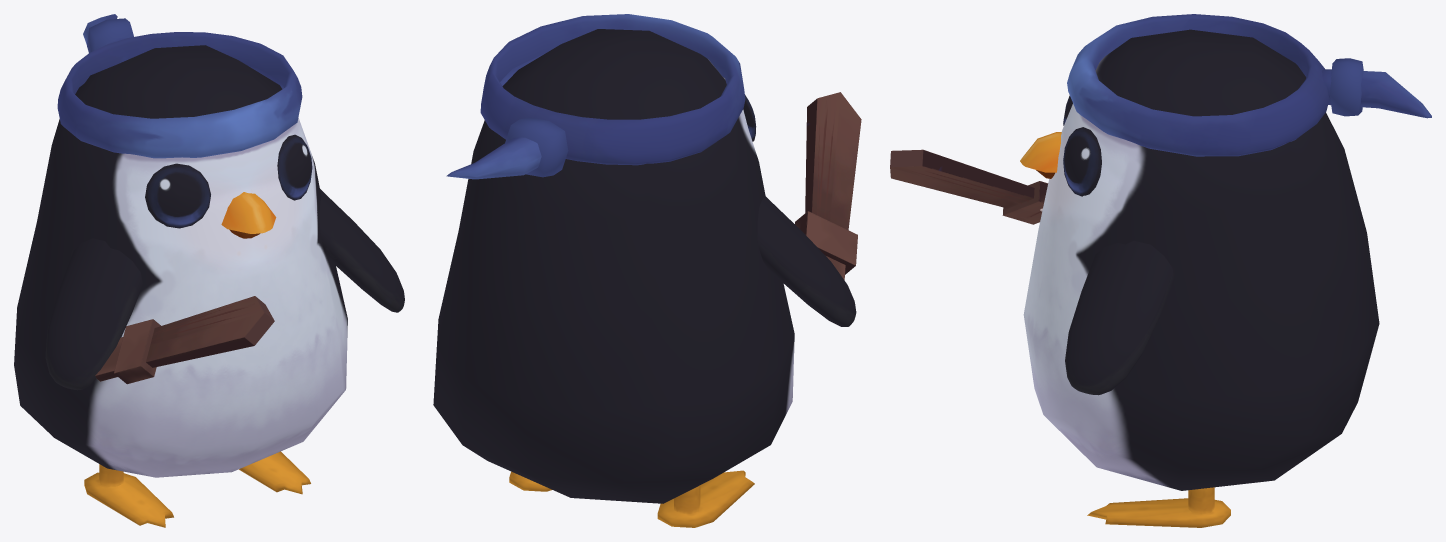
Rendered from penguin_-_tft.glb.
The picture shows the model from 3 angles, left to right: view 1: azimuth 30°, elevation 25°; view 2: azimuth 150°, elevation 25°; view 3: azimuth 270°, elevation 25°; orthographic projection. The views are drawn at different scales.
Visible parts, largest first — view 1: penguin; view 2: penguin; view 3: penguin.
Boxes of the visible parts, bbox=[...] form: penguin: bbox=[14, 14, 404, 527]; penguin: bbox=[433, 14, 861, 527]; penguin: bbox=[890, 14, 1431, 527].
Size of the model in its own units: 5.25 by 5.94 by 6.71.
1 material, 1 textured.
